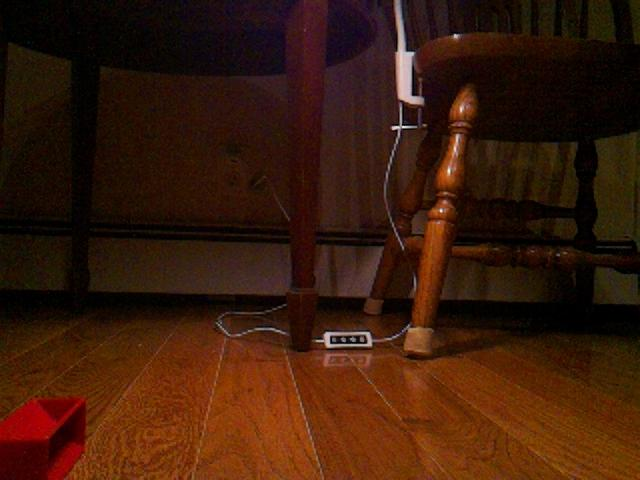red: (1, 394, 88, 480)
